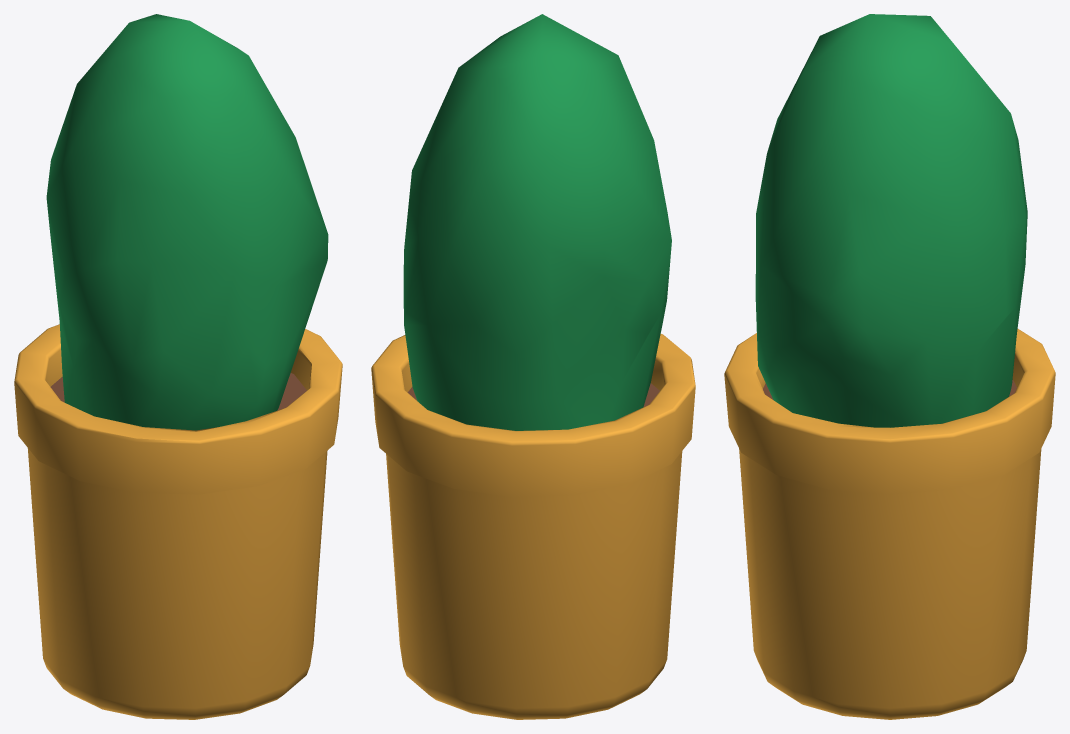
Rendered from Plant-6.fbx.
3 renders of one model, left to right at view 1: azimuth 30°, elevation 25°; view 2: azimuth 150°, elevation 25°; view 3: azimuth 270°, elevation 25°, orthographic.
Parts seen in each view (by area): view 1: Plant-6; view 2: Plant-6; view 3: Plant-6.
Boxes of the visible parts, x1,y1,x2,y2 form: Plant-6: [14, 14, 342, 719]; Plant-6: [371, 14, 695, 719]; Plant-6: [724, 14, 1055, 719].
Size of the model in its own units: 0.2496 by 0.5464 by 0.25.
